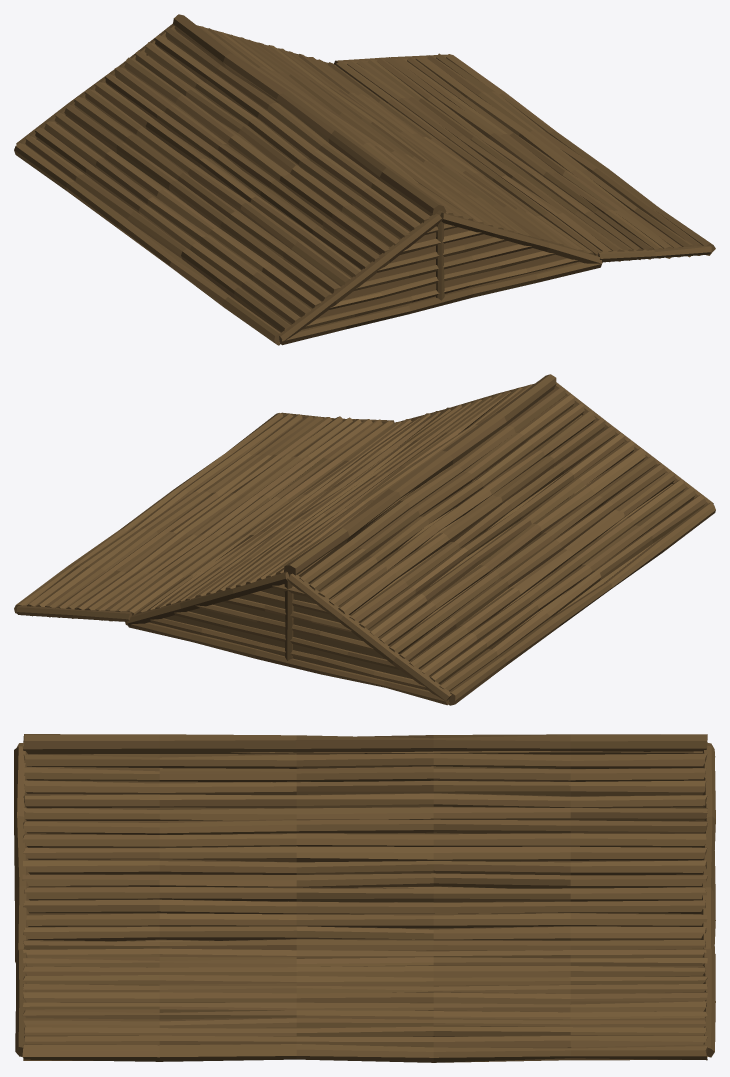
File: farmhouse_timber_roof.glb
3 views of the same model, one above another, from view 1: azimuth 30°, elevation 25°; view 2: azimuth 150°, elevation 25°; view 3: azimuth 270°, elevation 25° (orthographic). The views are drawn at different scales.
Visible parts, largest first — view 1: farmhouse_timber_roof.004; view 2: farmhouse_timber_roof.004; view 3: farmhouse_timber_roof.004.
Part boxes in pixels (bbox=[...]): farmhouse_timber_roof.004: bbox=[14, 14, 715, 345]; farmhouse_timber_roof.004: bbox=[14, 374, 715, 705]; farmhouse_timber_roof.004: bbox=[14, 734, 715, 1062].
Size of the model in its own units: 12.69 by 3.22 by 13.3.
